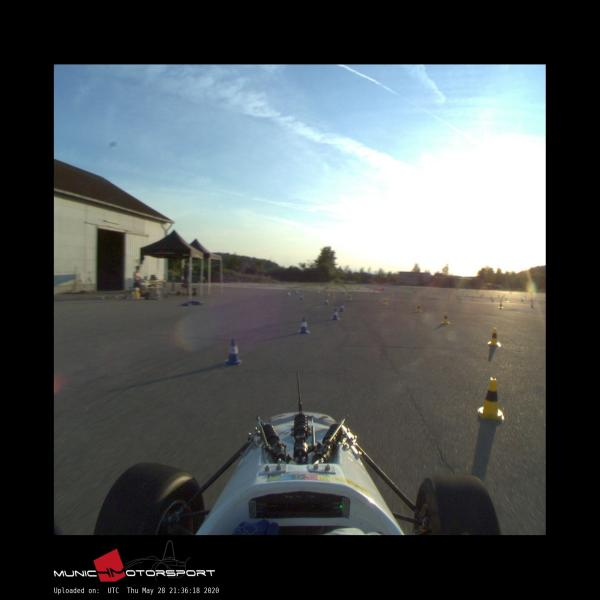blue_cone: (223, 338, 243, 366), (297, 317, 310, 334), (332, 308, 340, 320)
yellow_cone: (477, 377, 505, 420), (487, 328, 501, 347), (441, 313, 450, 324)
